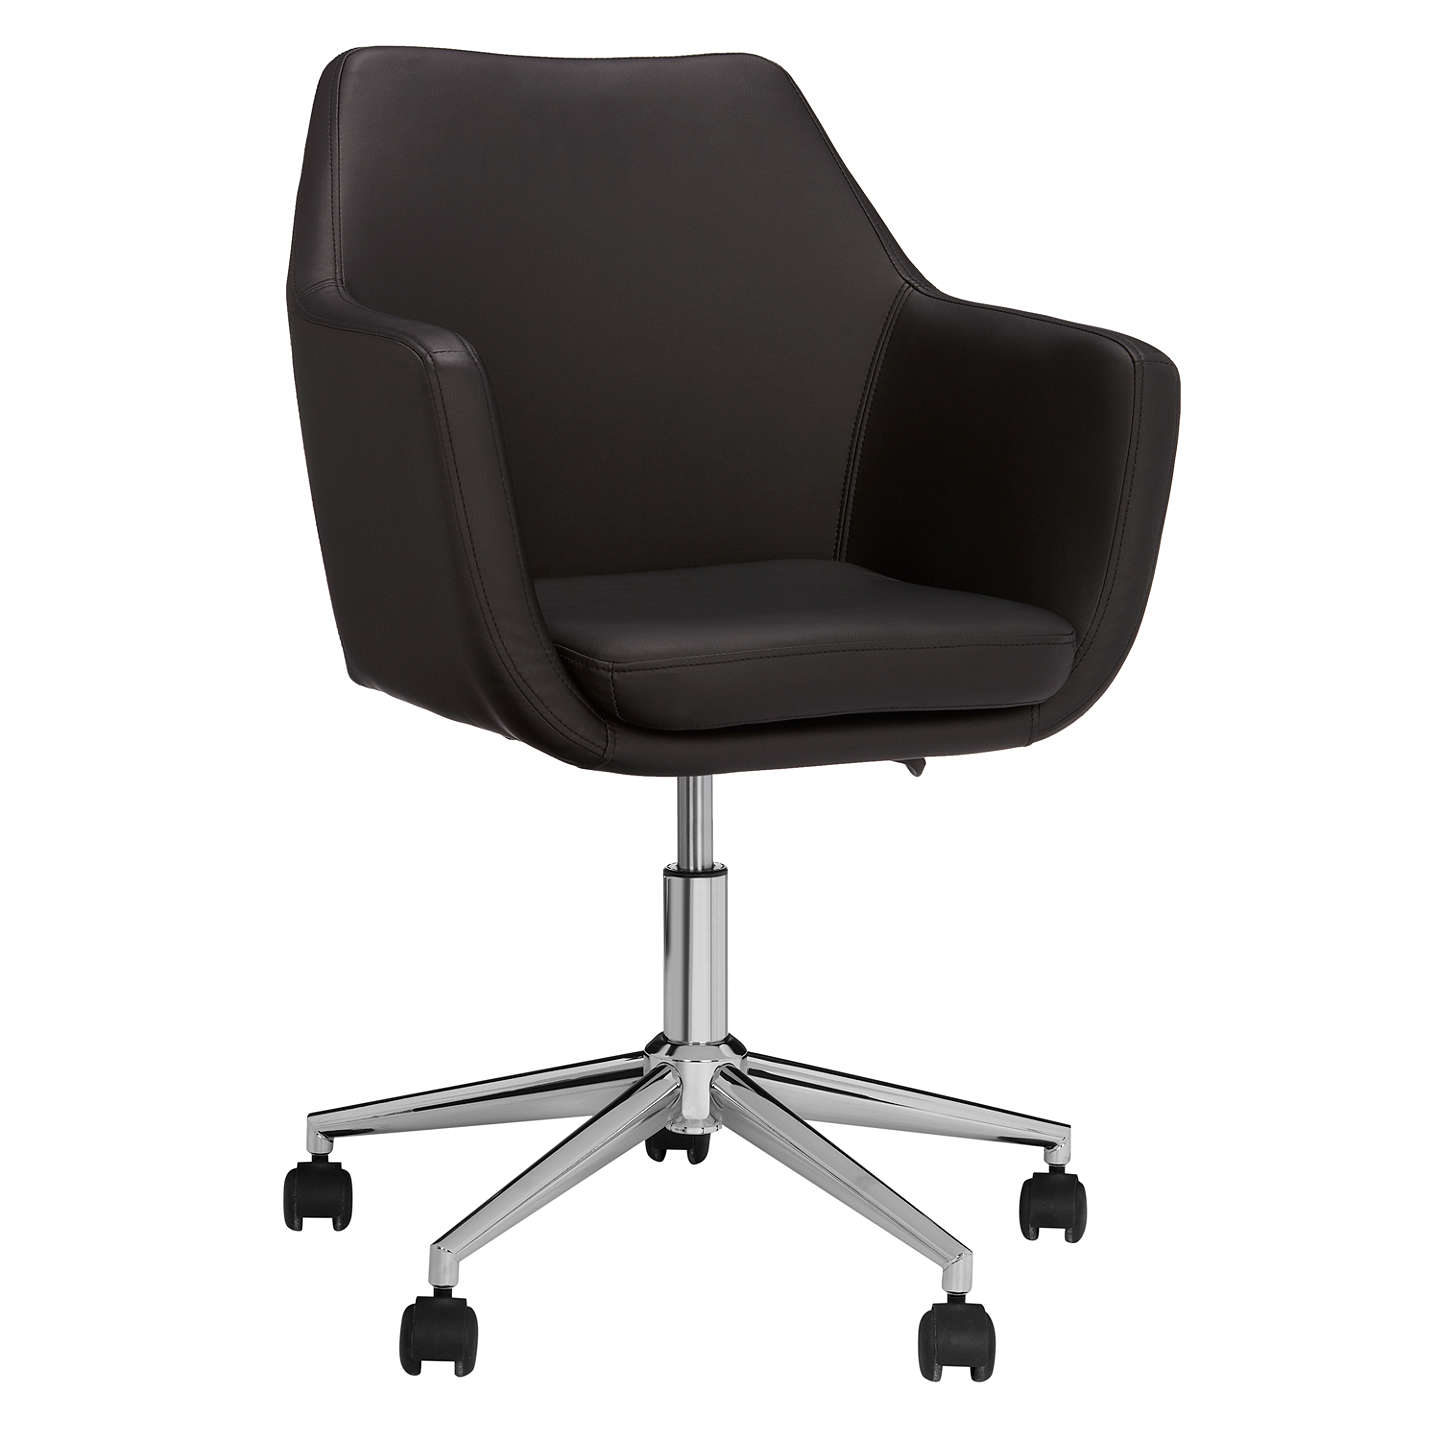chairs: (247, 38, 1212, 1394)
